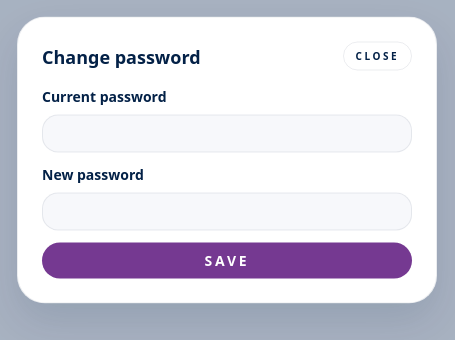
ChangePasswordDialog › submits current and new password and shows a success message
The image size is (455, 340).
Type "oldpassword" into the password field labelled "Current password" at (227, 134), box [42,114,412,152]
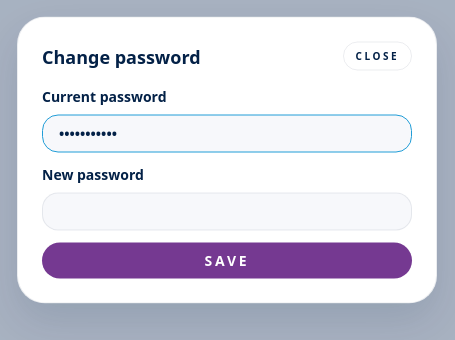
Type "newpassword" into the password field labelled "New password" at (227, 212), box [42,192,412,230]
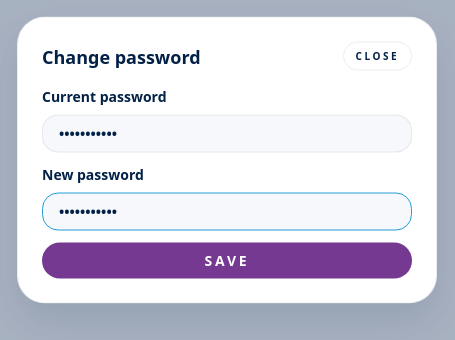
Click the button "Save" at (227, 260), box [42,242,412,278]
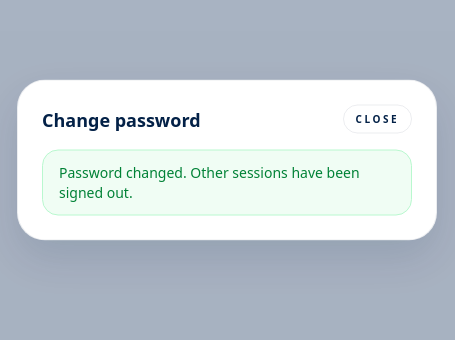
Now the text "Password changed. Other sessions have been signed out." is shown, box [42,150,412,216]
